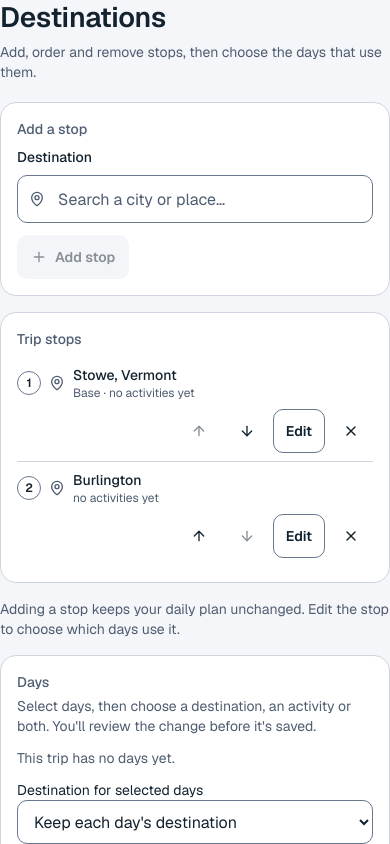
Test: Destinations after creation › blocks saving while assignments cannot be loaded and allows retry
Expected: the text "Burlington" is shown, x1=73 y1=471 x2=141 y2=489
Click the button "Edit" below "Burlington" at point(299, 536), box x1=273 y1=514 x2=325 y2=558
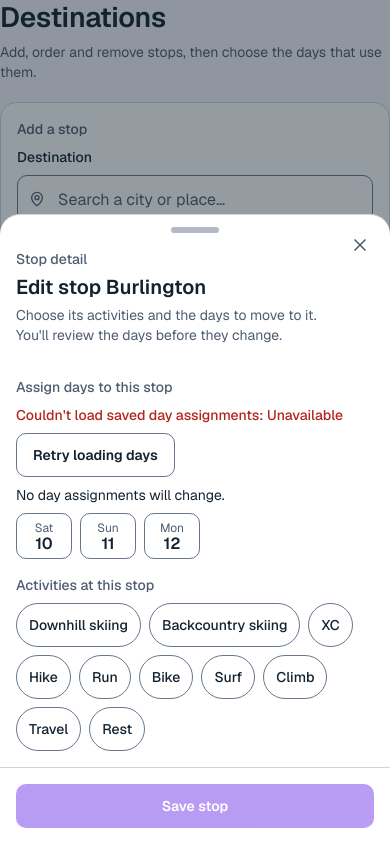
Now the message shows "Couldn't load saved day assignments: Unavailable", box x1=16 y1=405 x2=374 y2=477
Now the button "Save stop" is disabled, box x1=16 y1=784 x2=374 y2=828
Now the button with aria-label "Sunday, October 11" is disabled, box x1=80 y1=513 x2=136 y2=559
Click the button "Retry loading days" at point(95, 455), box x1=16 y1=433 x2=175 y2=477
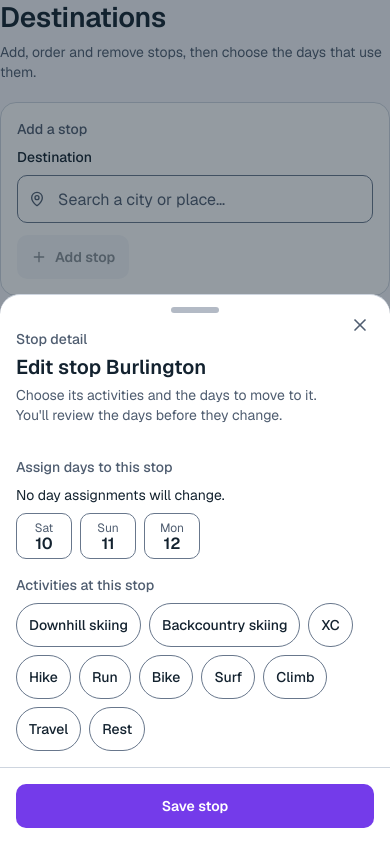
Now the button "Save stop" is enabled, box x1=16 y1=784 x2=374 y2=828
Now the message "Couldn't load saved day assignments: Unavailable Retry loading days" is gone
